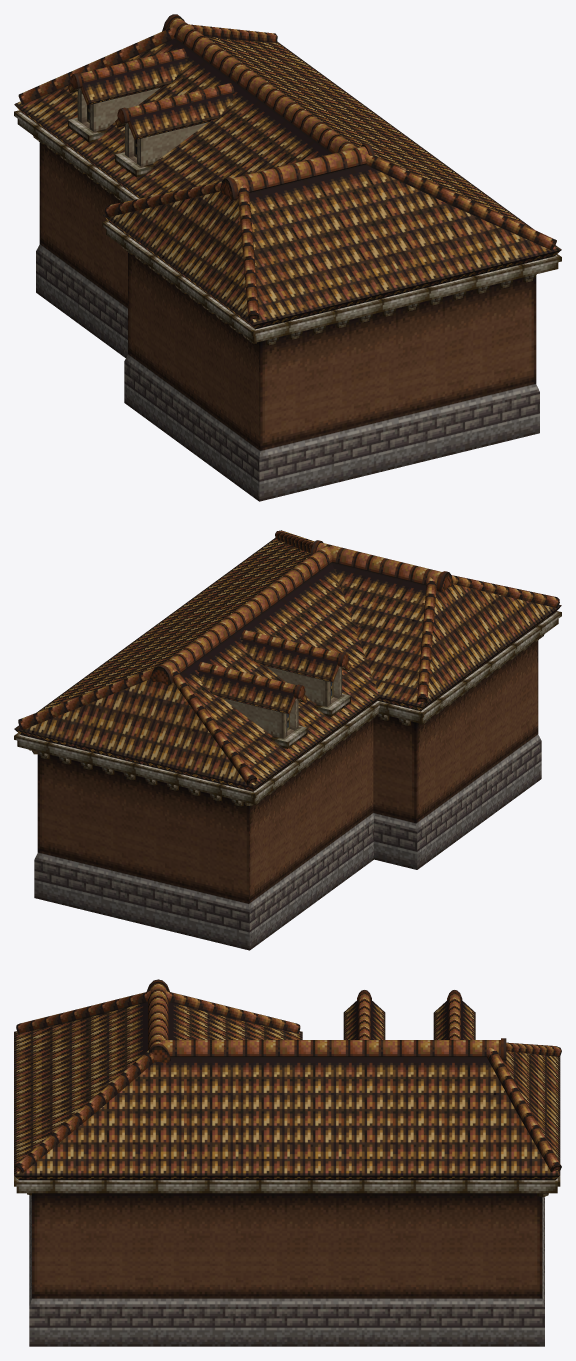
Rendered from EnvBdgMD_Sea_A_Outdoor_Scholar_A.FBX.
The picture shows the model from 3 angles, top to bottom: view 1: azimuth 30°, elevation 25°; view 2: azimuth 150°, elevation 25°; view 3: azimuth 270°, elevation 25°; orthographic projection. The views are drawn at different scales.
Visible parts, largest first — view 1: EnvBdgMD_Sea_A_Outdoor_Scholar_A; view 2: EnvBdgMD_Sea_A_Outdoor_Scholar_A; view 3: EnvBdgMD_Sea_A_Outdoor_Scholar_A.
Boxes of the visible parts, <box> form: EnvBdgMD_Sea_A_Outdoor_Scholar_A: <box>14,14,561,501</box>; EnvBdgMD_Sea_A_Outdoor_Scholar_A: <box>14,530,561,950</box>; EnvBdgMD_Sea_A_Outdoor_Scholar_A: <box>14,979,561,1346</box>.
Bounding box in the file's own units: 663 × 541 × 1063.
Materials: 2 (2 with a texture image).
